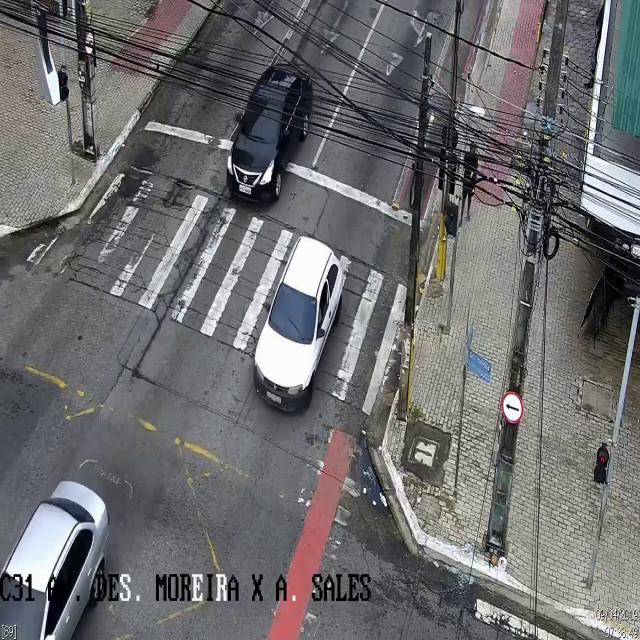Car: (0, 481, 109, 639), (252, 234, 343, 411), (226, 60, 312, 201)
